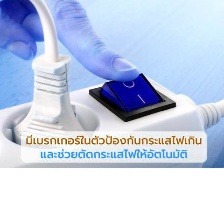three_eye_plug: (0, 67, 215, 180)
